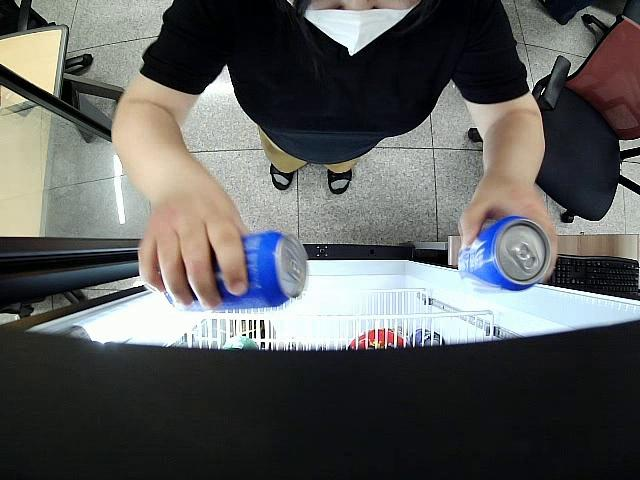00_hand: (137, 186, 253, 311), (457, 179, 559, 284)
13_pocariSweat: (161, 229, 307, 313), (460, 218, 550, 289)
